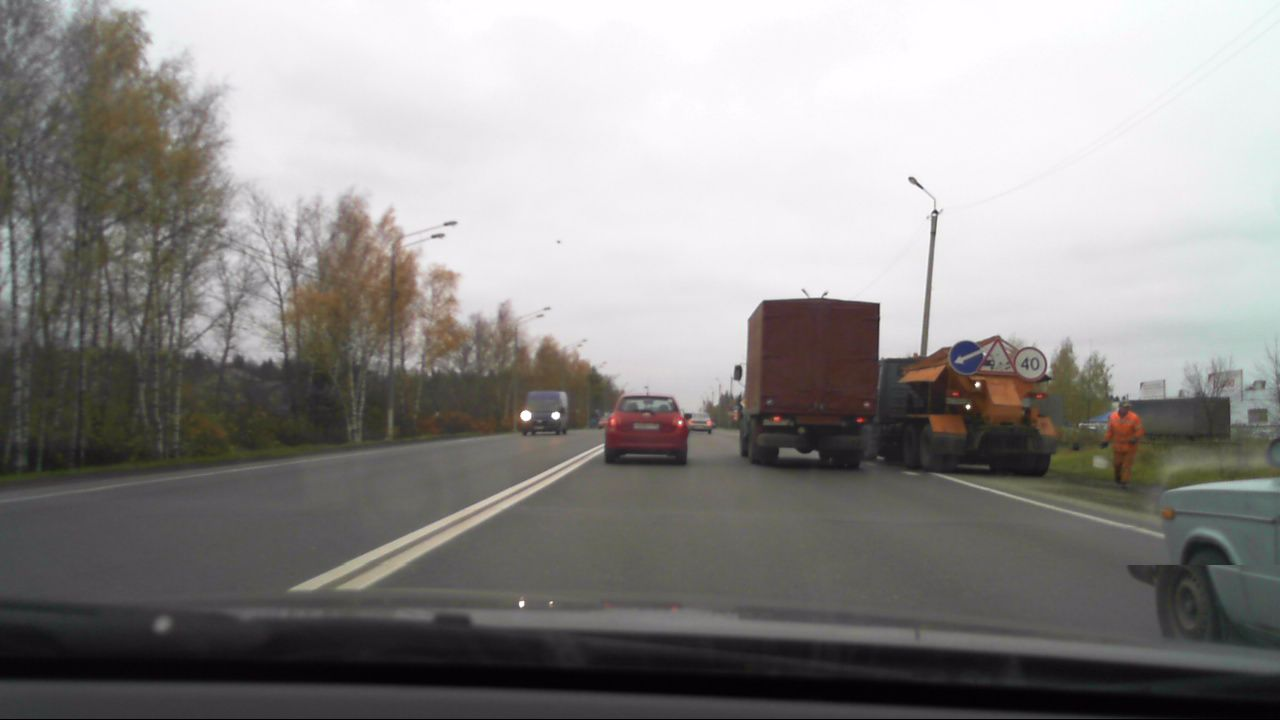speed_warning_40: (1011, 346, 1049, 384)
